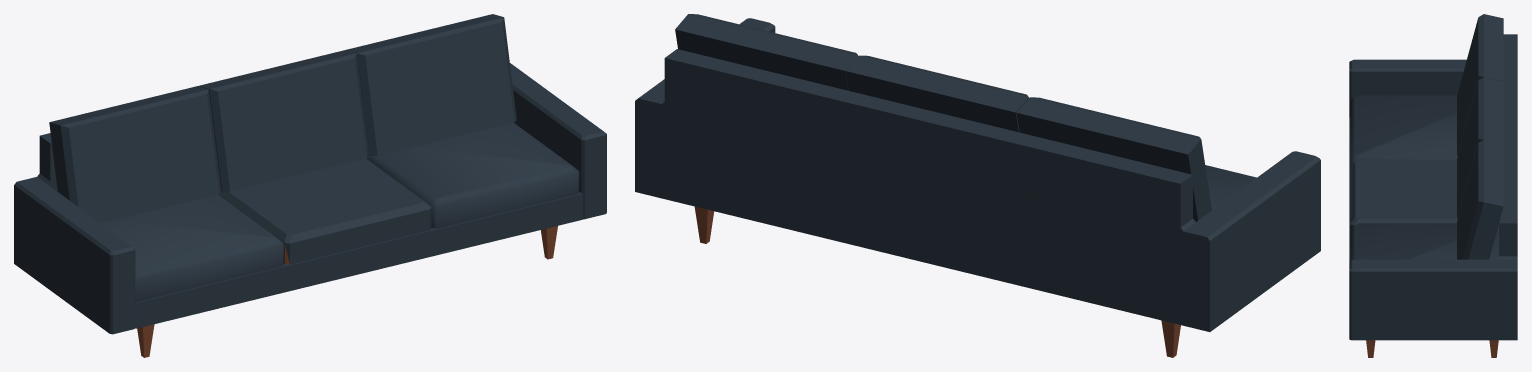
Rendered from sofa.glb.
The picture shows the model from 3 angles, left to right: view 1: azimuth 30°, elevation 25°; view 2: azimuth 150°, elevation 25°; view 3: azimuth 270°, elevation 25°; orthographic projection. The views are drawn at different scales.
Parts seen in each view (by area): view 1: coach_long; view 2: coach_long; view 3: coach_long.
Part boxes in pixels (x1,y1,x2,y2): coach_long: (14,14,606,357); coach_long: (635,14,1320,357); coach_long: (1349,14,1517,357).
Bounding box in the file's own units: 1.9 × 0.6865 × 0.6419.
